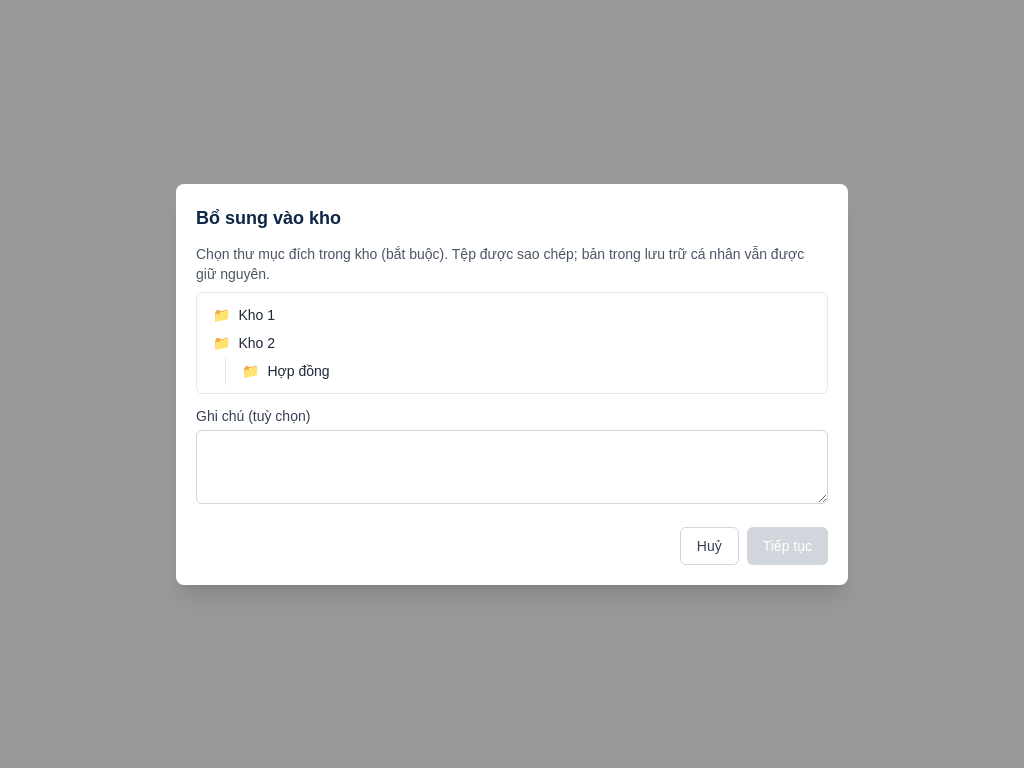
PersonalToWarehouseDialog › requires a destination folder before continuing (AC-6)
The width and height of the screenshot is (1024, 768).
expect the button "Tiếp tục" is disabled: met, box [747,526,828,564]
Step 1. Click the button "📁 Kho 1" → click(257, 314), box [205,300,819,328]
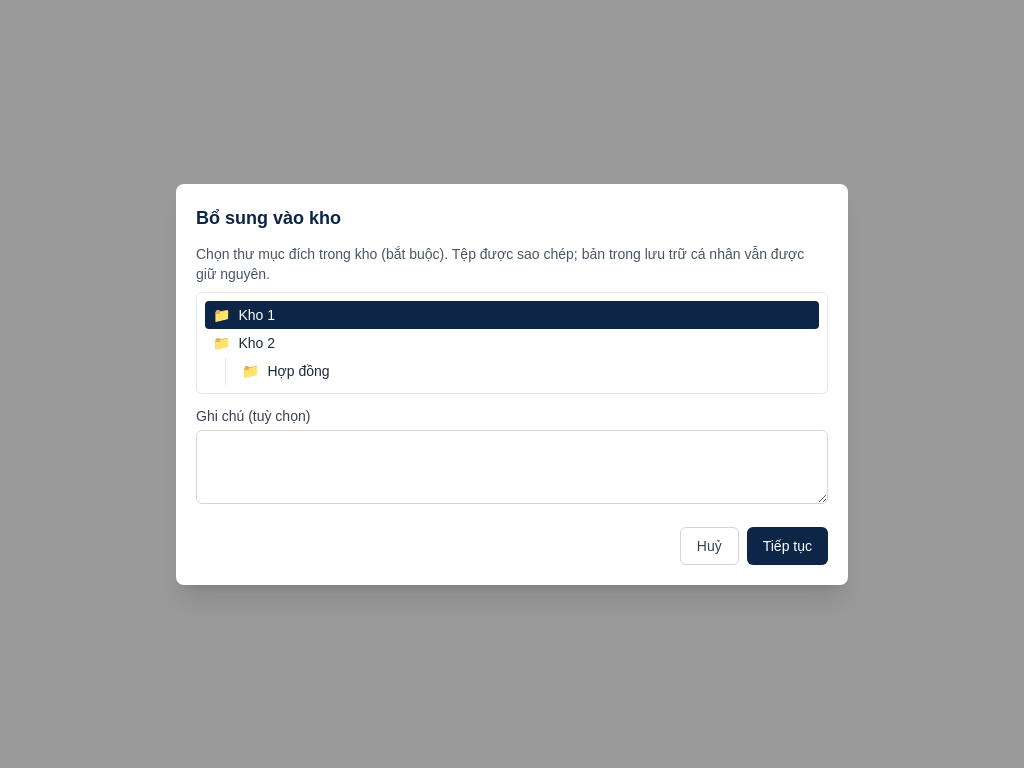
expect the button "Tiếp tục" is enabled: met, box [747,526,828,564]
